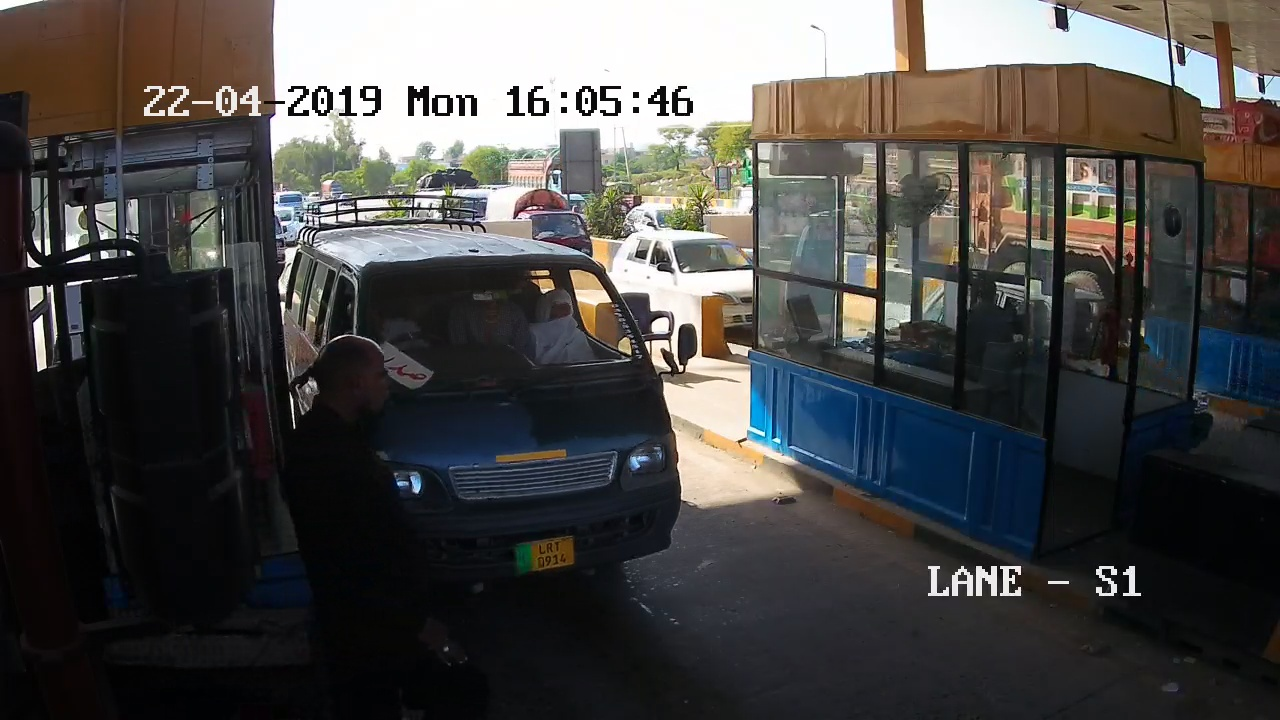Number Plate (Car): (517, 537, 577, 570)
